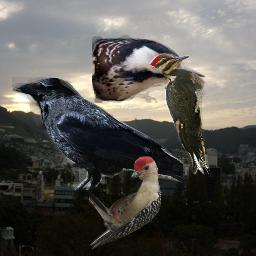Crow: (12, 77, 183, 190)
Woodpecker: (92, 33, 205, 103), (149, 53, 211, 177), (89, 156, 161, 251)
